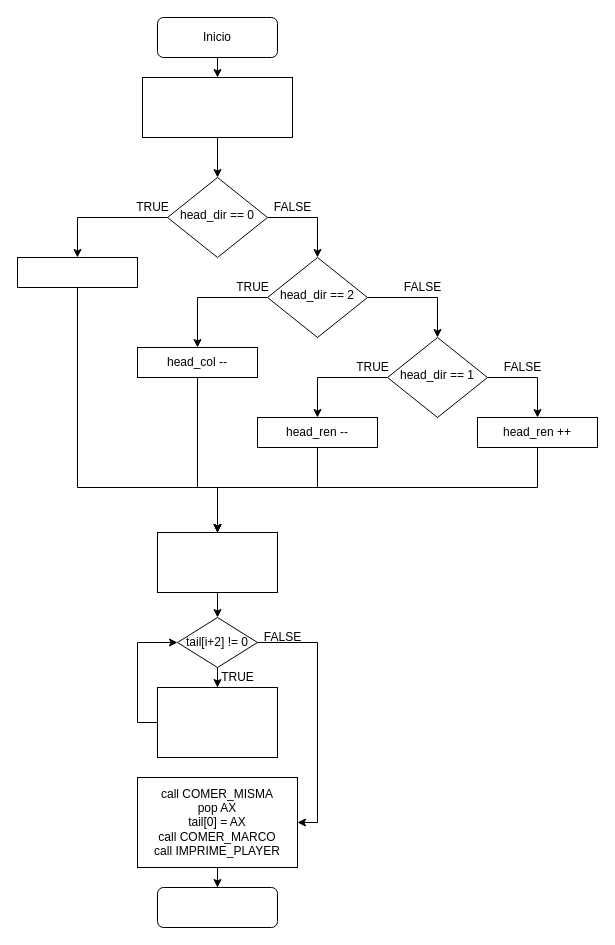
The diagram is 615 pixels wide and 945 high, and some of its shapes have lost their labels. The centre of each missing label's shape, as x and y in pixels:
AX = tail[i+2] tail[i+2] = CX CX = AX i = i + 2: pixel 217 722
call BORRA_PLAYER AX = head_col, head_ren push AX: pixel 217 107
call COMER_OBJ i = 0 CX = tail[i]: pixel 217 562
Final: pixel 217 907
head_col++: pixel 77 272
